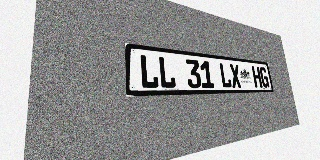1: (199, 60, 214, 88)
3: (185, 59, 202, 88)
G: (259, 67, 270, 88)
H: (251, 66, 263, 88)
L: (139, 54, 159, 89), (158, 56, 176, 88), (219, 62, 232, 88)
X: (229, 64, 242, 88)
